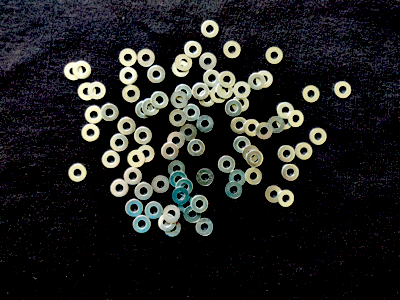circle: (68, 164, 88, 185), (334, 80, 354, 100), (196, 218, 216, 238), (134, 181, 154, 201), (64, 62, 83, 83), (265, 46, 284, 66), (184, 40, 203, 60), (148, 65, 167, 85), (118, 67, 138, 86), (122, 85, 141, 105), (295, 142, 314, 162), (280, 164, 300, 183), (186, 140, 206, 159), (196, 168, 215, 188), (163, 219, 183, 238), (145, 201, 164, 221), (110, 179, 129, 199), (134, 126, 154, 145), (110, 134, 129, 154), (264, 184, 282, 205), (126, 198, 144, 219), (201, 20, 220, 39), (199, 52, 218, 71), (119, 48, 138, 67), (179, 124, 198, 143), (124, 168, 143, 187), (102, 151, 121, 170), (117, 117, 136, 136), (84, 106, 103, 125), (174, 54, 194, 72), (245, 167, 263, 187), (137, 144, 155, 164), (256, 69, 273, 90), (248, 73, 266, 92), (277, 190, 295, 209), (277, 101, 295, 120), (276, 112, 294, 131), (230, 117, 249, 135), (225, 99, 243, 118), (219, 71, 237, 90), (174, 84, 192, 103), (196, 115, 214, 134), (169, 110, 188, 128), (161, 143, 179, 162), (228, 170, 247, 188), (217, 156, 236, 174), (191, 195, 209, 214), (178, 195, 197, 213), (167, 160, 186, 178), (158, 214, 177, 232), (132, 215, 151, 233), (128, 150, 146, 169), (102, 103, 120, 122), (81, 124, 100, 142), (73, 61, 91, 80), (183, 103, 200, 123), (136, 100, 153, 120), (172, 61, 190, 79), (310, 127, 328, 145), (268, 116, 286, 134), (171, 91, 189, 109), (167, 132, 185, 150), (233, 136, 251, 154), (226, 182, 244, 200), (163, 205, 181, 223), (152, 177, 170, 195), (151, 91, 169, 109), (89, 81, 107, 99), (78, 83, 96, 101), (303, 86, 322, 103), (224, 41, 241, 60), (276, 146, 295, 163), (255, 123, 274, 140), (233, 82, 252, 99), (246, 151, 265, 168), (137, 51, 155, 68), (232, 96, 250, 113), (204, 70, 221, 88), (192, 83, 209, 101), (198, 91, 216, 108), (184, 206, 201, 224), (172, 188, 190, 205), (170, 171, 188, 188), (143, 98, 159, 117), (244, 145, 260, 163), (176, 179, 194, 195), (245, 119, 260, 138), (217, 83, 233, 100), (289, 111, 304, 129), (211, 86, 226, 104)
